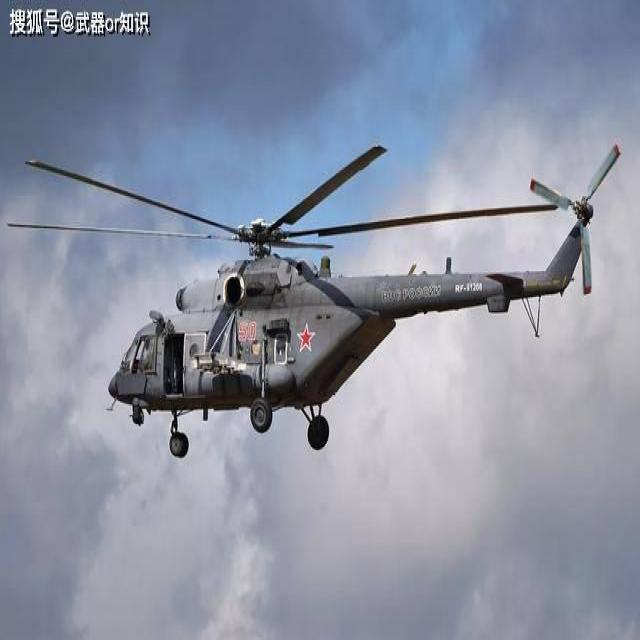MIL_HELO: (4, 137, 609, 470)
